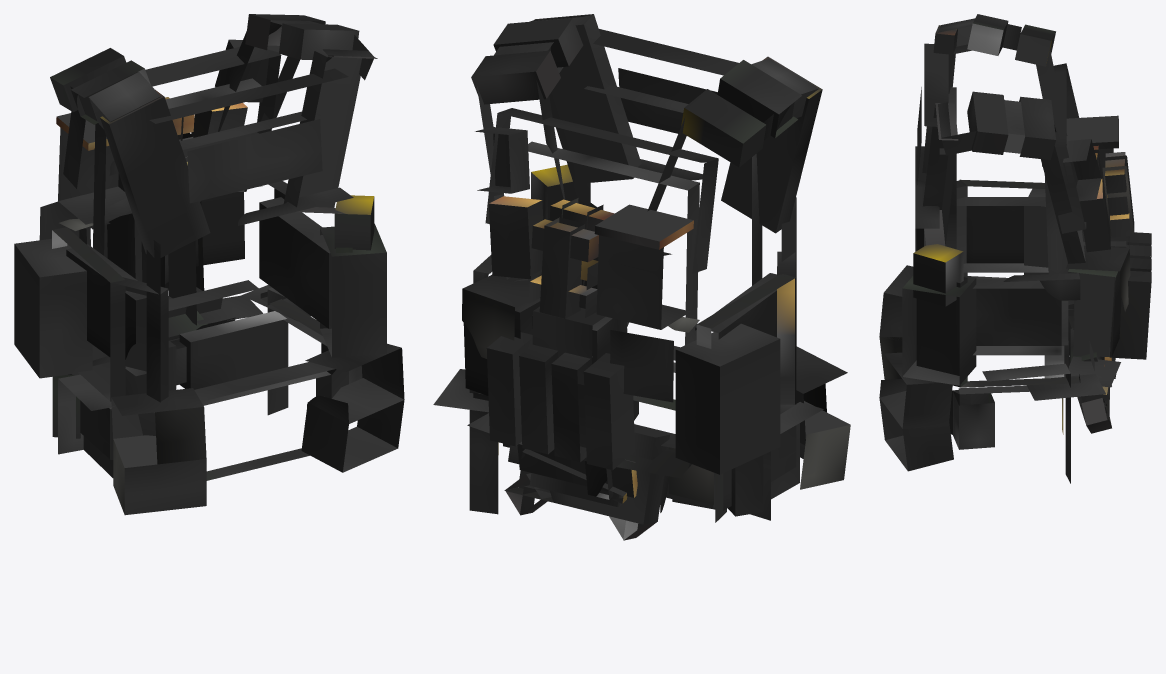
Rendered from a_police.obj.
3 renders of one model, left to right at view 1: azimuth 30°, elevation 25°; view 2: azimuth 150°, elevation 25°; view 3: azimuth 270°, elevation 25°, orthographic. The views are drawn at different scales.
Visible parts, largest first — view 1: plane; view 2: plane; view 3: plane.
Boxes of the visible parts, box(x1,y1,x2,y2) form: plane: box(14, 14, 404, 515); plane: box(433, 14, 850, 540); plane: box(879, 14, 1151, 483).
Size of the model in its own units: 0.7741 by 1.54 by 0.6963.
